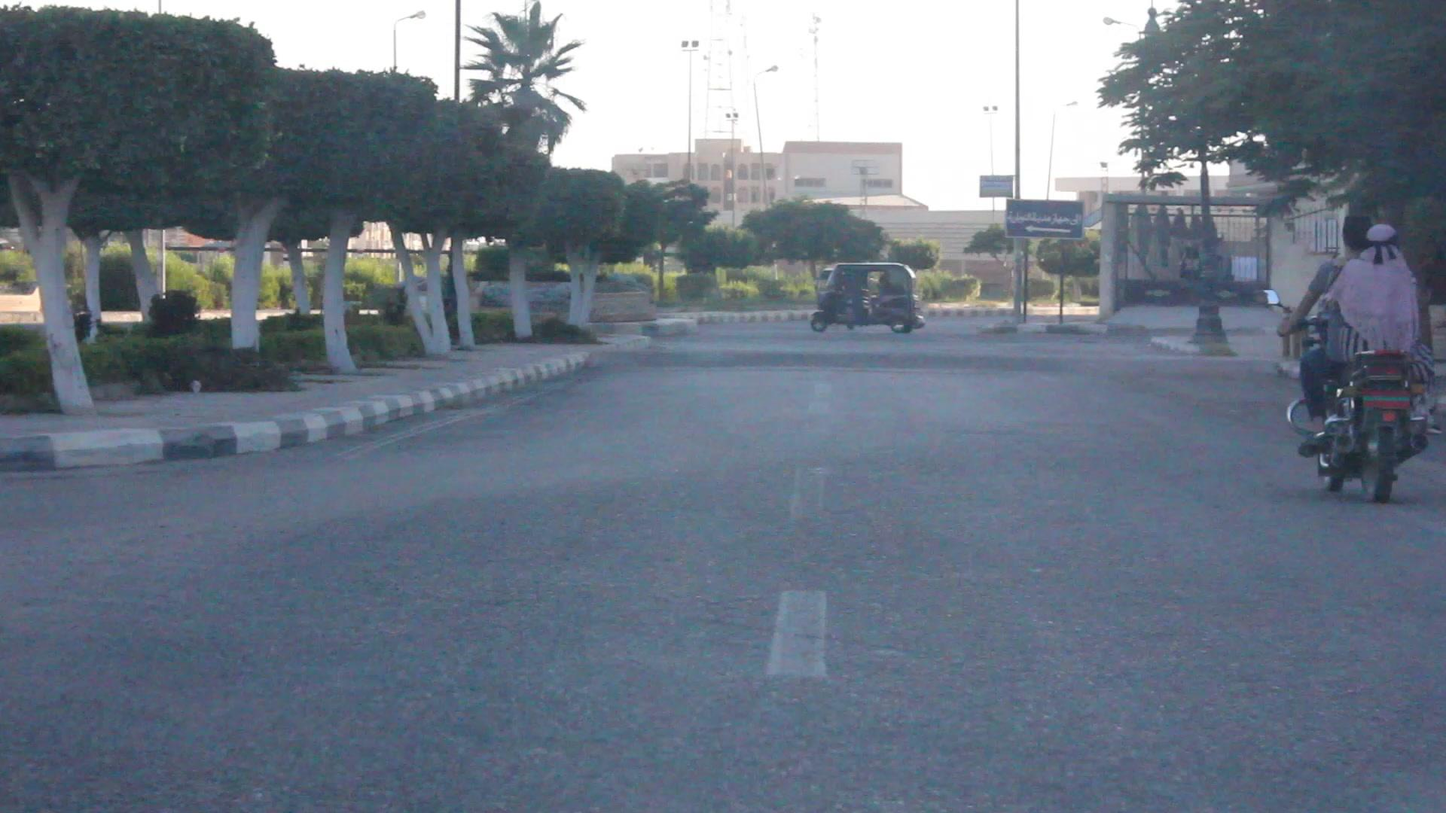Bump: (589, 347, 1288, 382)
